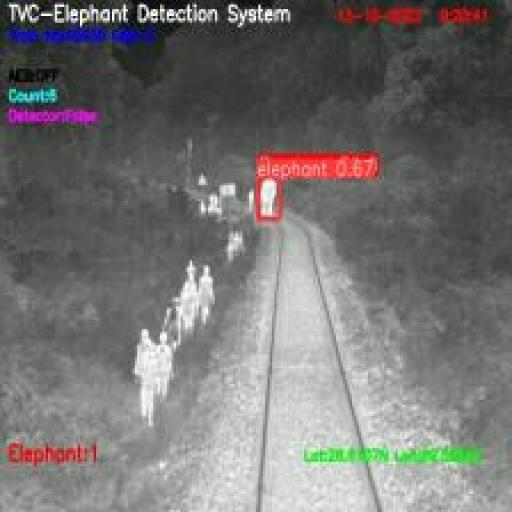Elephant: (256, 176, 279, 218)
